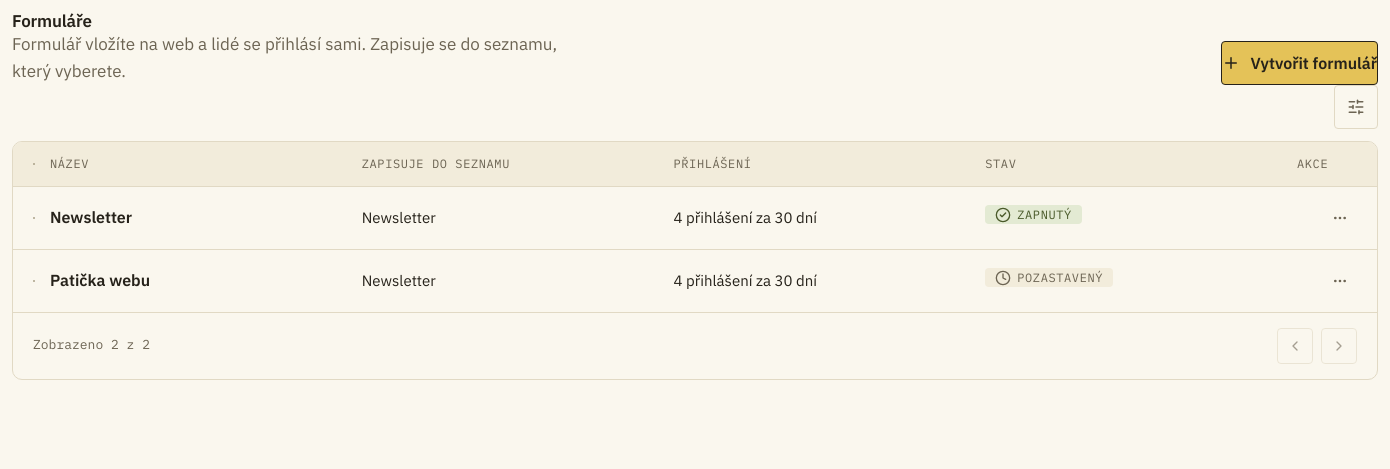
hromadné mazání formulářů › výběr vede k akci, ne jen k počtu
The image size is (1390, 469).
Click the 1st checkbox named "Název": (34, 218) left=33, top=217, right=35, bottom=219
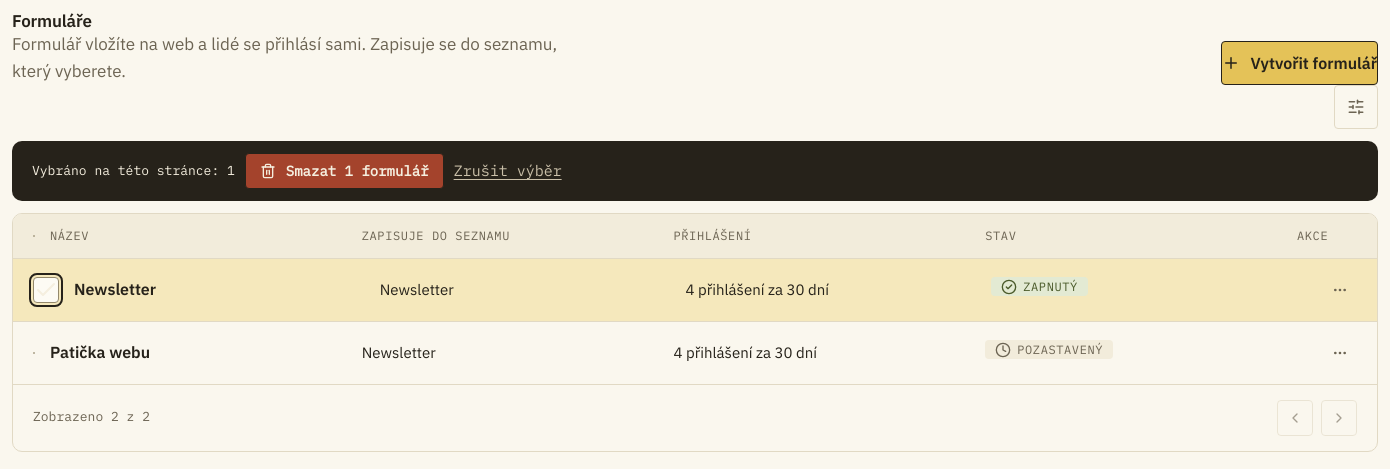
Expected: the element with test id "selection-bar" is shown, left=12, top=141, right=1378, bottom=201
Expected: the button with test id "forms-bulk-delete" reads "Smazat 1 formulář", left=245, top=153, right=444, bottom=189
